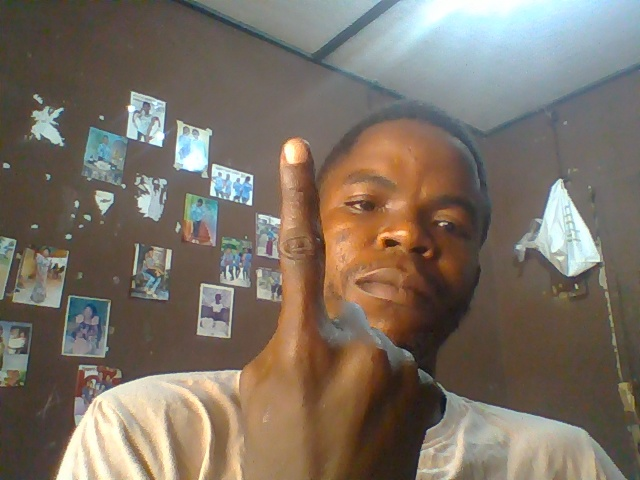Up: (232, 134, 438, 476)
